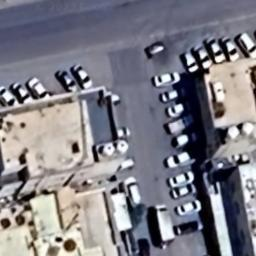sedan: (202, 34, 227, 64), (217, 35, 241, 66), (189, 42, 215, 70), (26, 71, 50, 99), (70, 62, 94, 89), (166, 170, 198, 189), (57, 68, 78, 95), (236, 31, 256, 59), (11, 78, 32, 104), (168, 183, 202, 198), (152, 71, 182, 86), (158, 88, 187, 102), (175, 200, 204, 214), (1, 84, 15, 106), (166, 105, 192, 116)
truck: (166, 148, 198, 168)
van: (122, 176, 144, 206), (178, 52, 198, 76)
